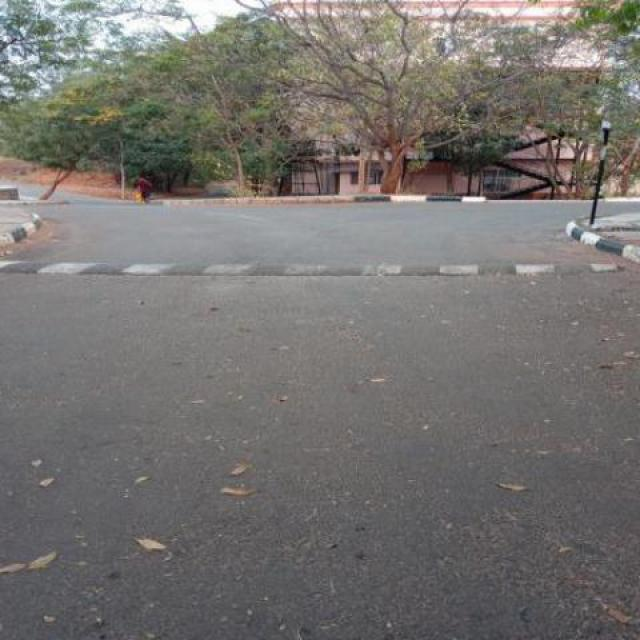Speed Bump: (0, 258, 627, 278)
